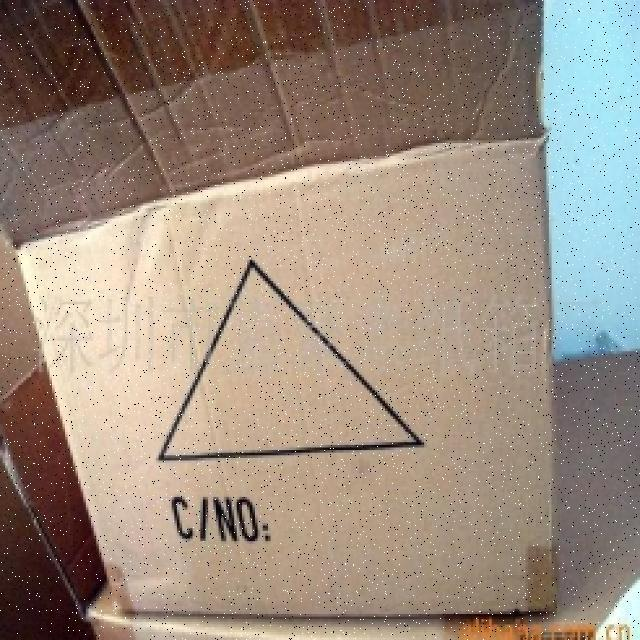box: (0, 0, 570, 622)
